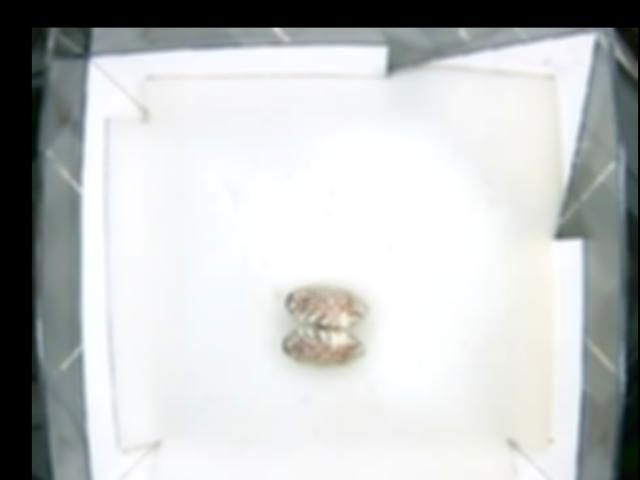Shell: (283, 287, 369, 366)
